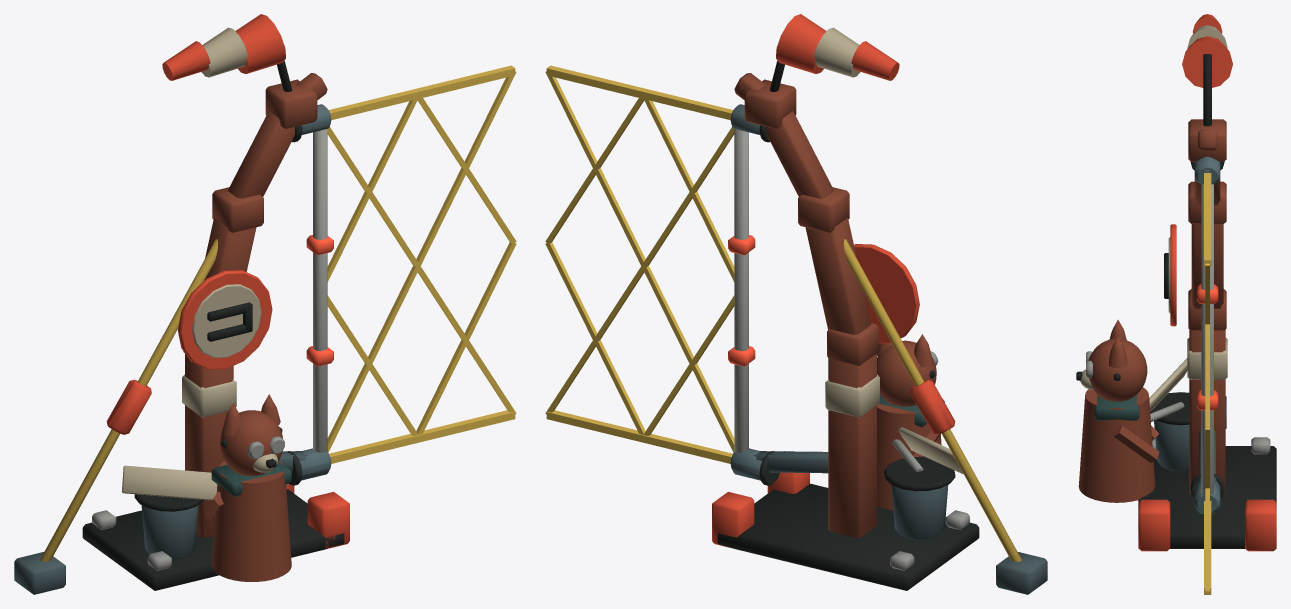
Rendered from enemy_gap_net.glb.
The picture shows the model from 3 angles, left to right: view 1: azimuth 30°, elevation 25°; view 2: azimuth 150°, elevation 25°; view 3: azimuth 270°, elevation 25°; orthographic projection. The views are drawn at different scales.
Visible parts, largest first — view 1: GapNetPost, GapNetSpan, GapNetBatten; view 2: GapNetPost, GapNetSpan, GapNetBatten; view 3: GapNetPost, GapNetBatten, GapNetSpan.
Boxes of the visible parts, <box> form: GapNetPost: <box>14,14,349,594</box>; GapNetSpan: <box>327,65,516,463</box>; GapNetBatten: <box>288,104,333,485</box>; GapNetPost: <box>712,14,1047,594</box>; GapNetSpan: <box>545,65,734,463</box>; GapNetBatten: <box>728,104,779,485</box>; GapNetPost: <box>1076,14,1276,551</box>; GapNetBatten: <box>1190,156,1224,514</box>; GapNetSpan: <box>1204,173,1211,594</box>.
Size of the model in its own units: 5.1 by 5.08 by 1.88.
